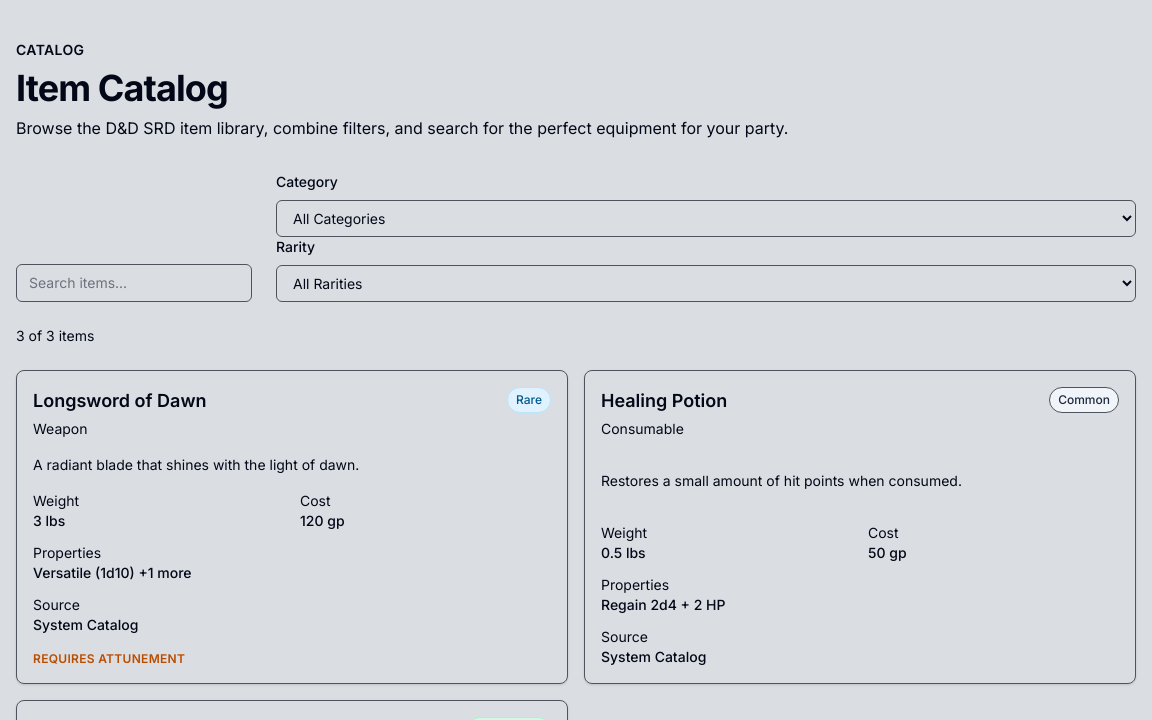
ItemsPage integration - US1 list filtering and search › filters items by rarity
Expected: the heading "Item Catalog" is shown, [16,66,228,110]
Select "Rare" in the dropdown labelled "Rarity" at (706, 284), box [276,265,1136,302]
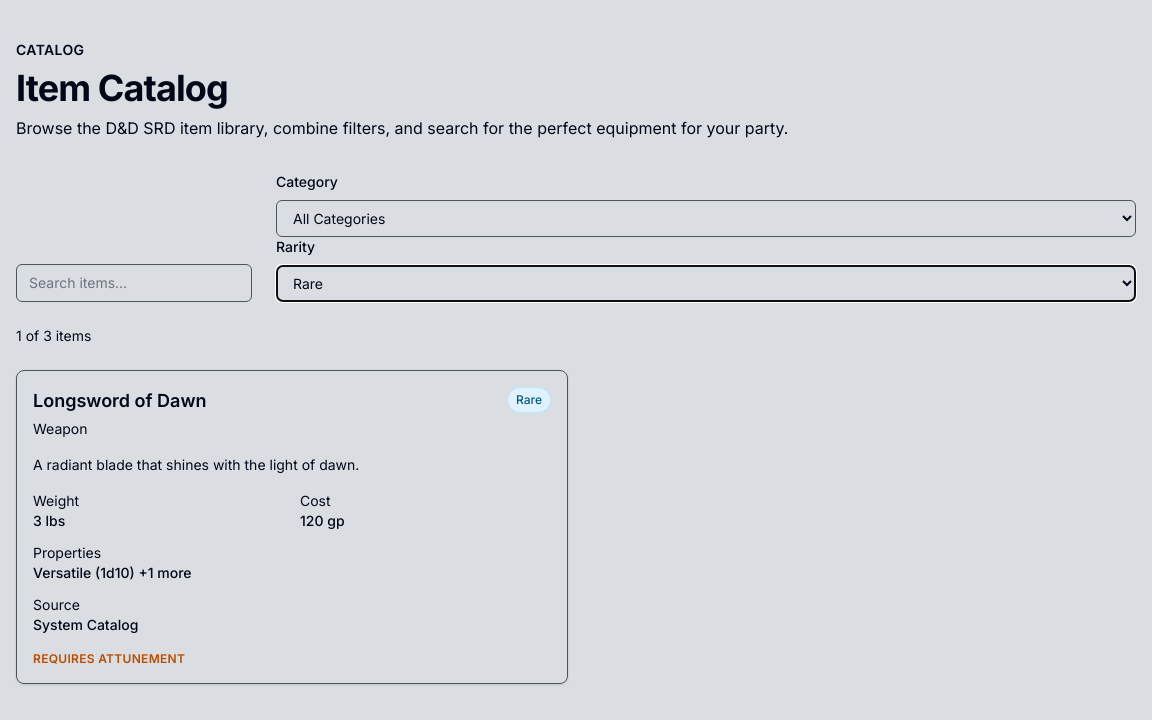
Expected: the heading "Longsword of Dawn" is shown, [33,387,207,415]
Expected: the link "Healing Potion" is gone
